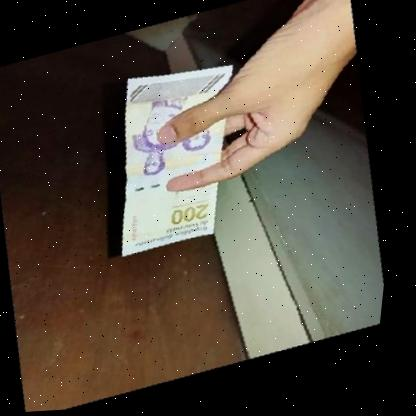two_hundred-front-vef: (113, 65, 245, 260)
